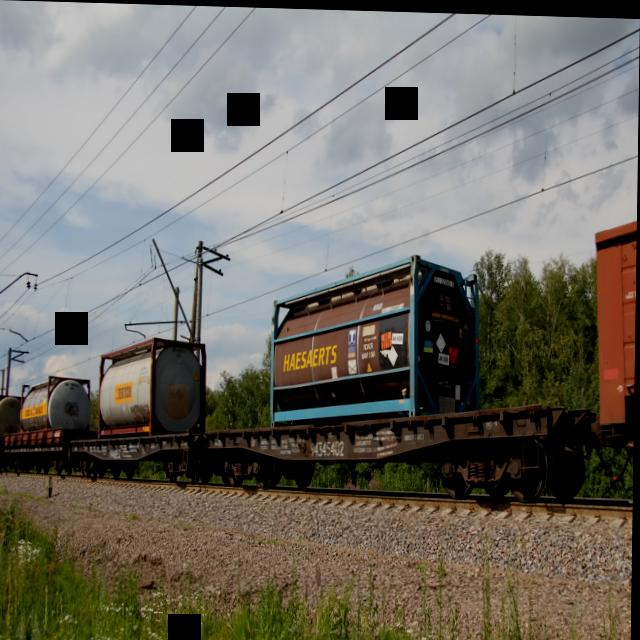flatcar: (202, 388, 600, 519), (70, 424, 207, 488), (3, 425, 89, 479)
tank: (262, 241, 486, 436), (92, 329, 211, 439), (15, 371, 95, 439), (0, 388, 23, 448)
